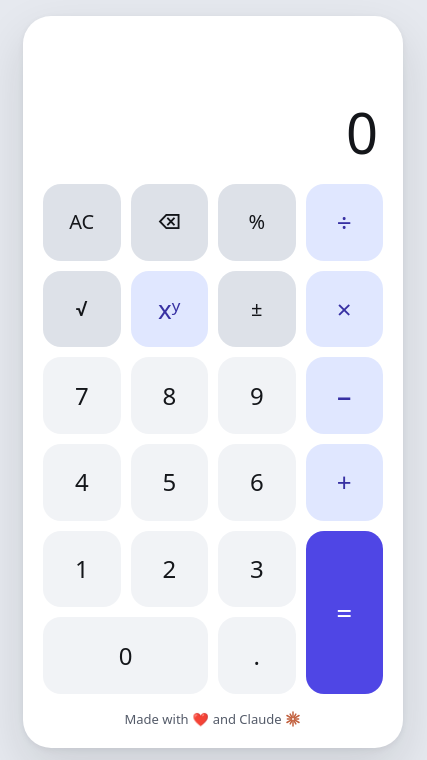
Test: Calculator › shows the pending expression and highlights the operator
The image size is (427, 760).
Click the button "1". click: [82, 569]
box: [43,531,120,607]
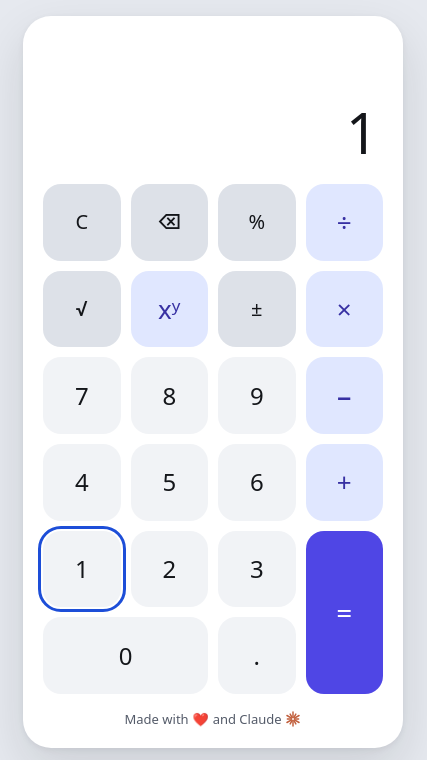
Click the button "2". click: [169, 569]
box: [130,531,208,607]
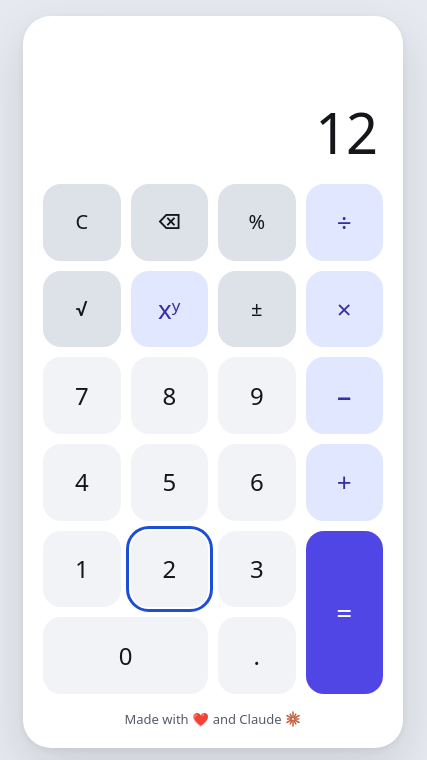
Click the button named "multiply". click: [344, 309]
box: [306,271,383,347]
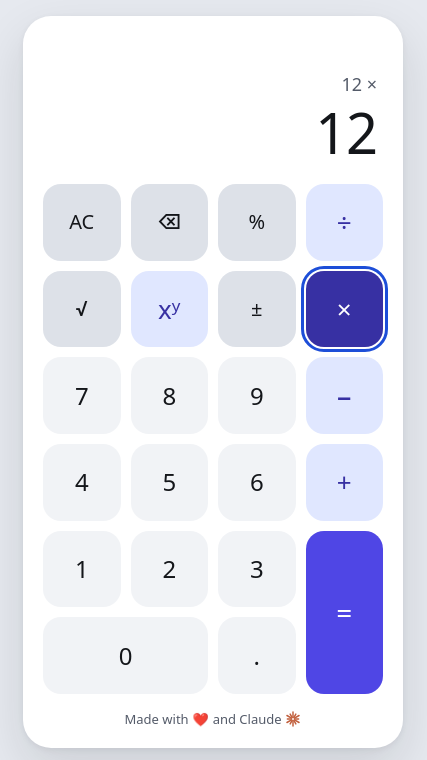
Result: the text with test id "display-expression" reads "12 ×" at [341,72,377,96]
